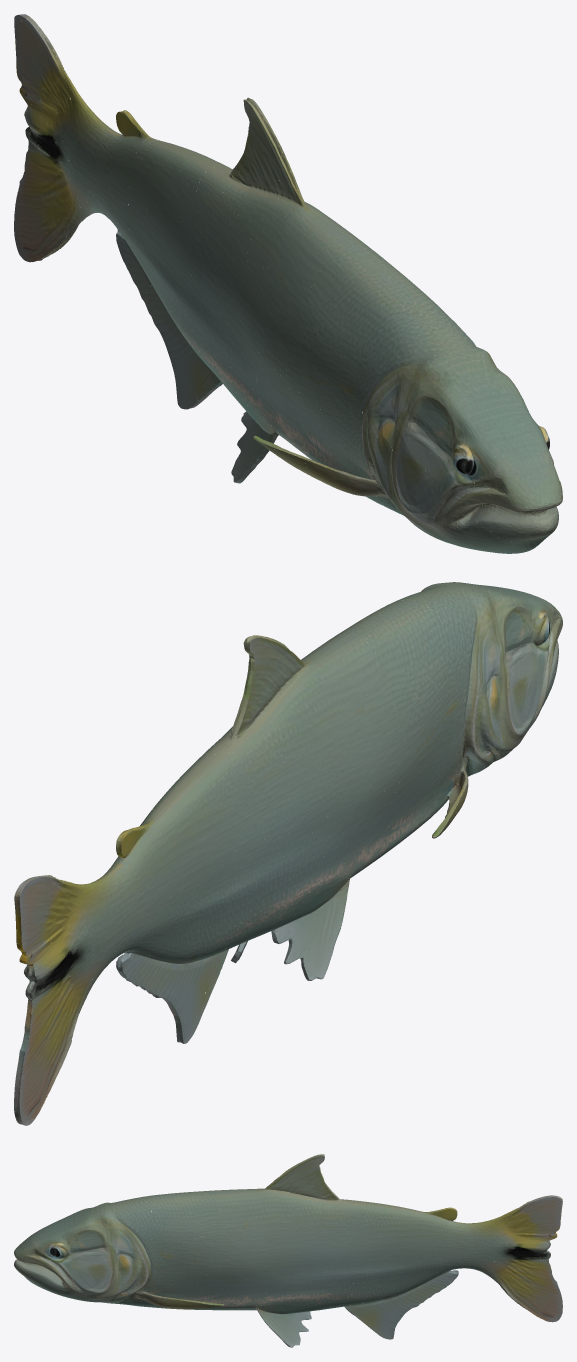
File: dorado.glb
3 views of the same model, one above another, from view 1: azimuth 30°, elevation 25°; view 2: azimuth 150°, elevation 25°; view 3: azimuth 270°, elevation 25° (orthographic). The views are drawn at different scales.
Visible parts, largest first — view 1: tripo_node_05672dae-2b45-4ddb-9305-c05434011ae4; view 2: tripo_node_05672dae-2b45-4ddb-9305-c05434011ae4; view 3: tripo_node_05672dae-2b45-4ddb-9305-c05434011ae4.
Boxes of the visible parts, x1=… form: tripo_node_05672dae-2b45-4ddb-9305-c05434011ae4: x1=14, y1=14, x2=562, y2=553; tripo_node_05672dae-2b45-4ddb-9305-c05434011ae4: x1=14, y1=582, x2=562, y2=1125; tripo_node_05672dae-2b45-4ddb-9305-c05434011ae4: x1=14, y1=1154, x2=562, y2=1347.
Bounding box in the file's own units: 0.1984 × 0.3718 × 1.
1 material, 1 textured.
